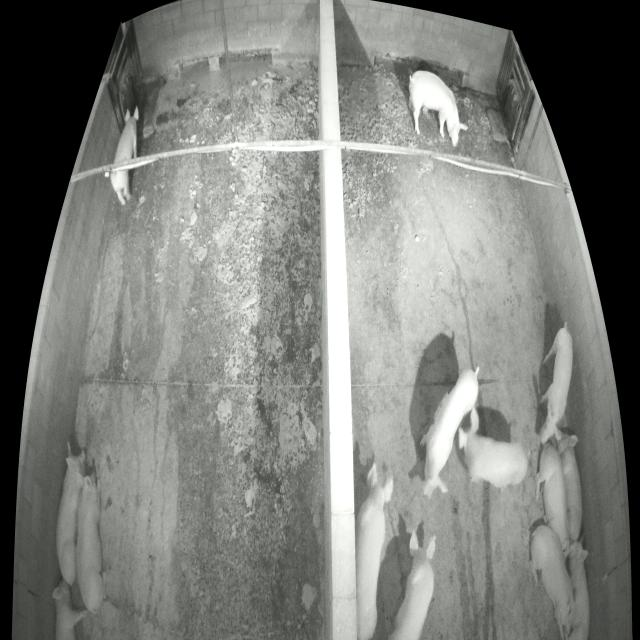pig: (419, 368, 478, 503), (356, 463, 394, 639), (458, 408, 529, 486), (388, 527, 435, 638), (528, 526, 574, 638), (408, 70, 468, 147), (74, 471, 106, 612), (56, 449, 88, 588), (538, 327, 573, 445), (535, 442, 569, 551), (556, 426, 584, 543), (110, 104, 139, 205), (563, 535, 589, 639), (52, 579, 87, 639)
